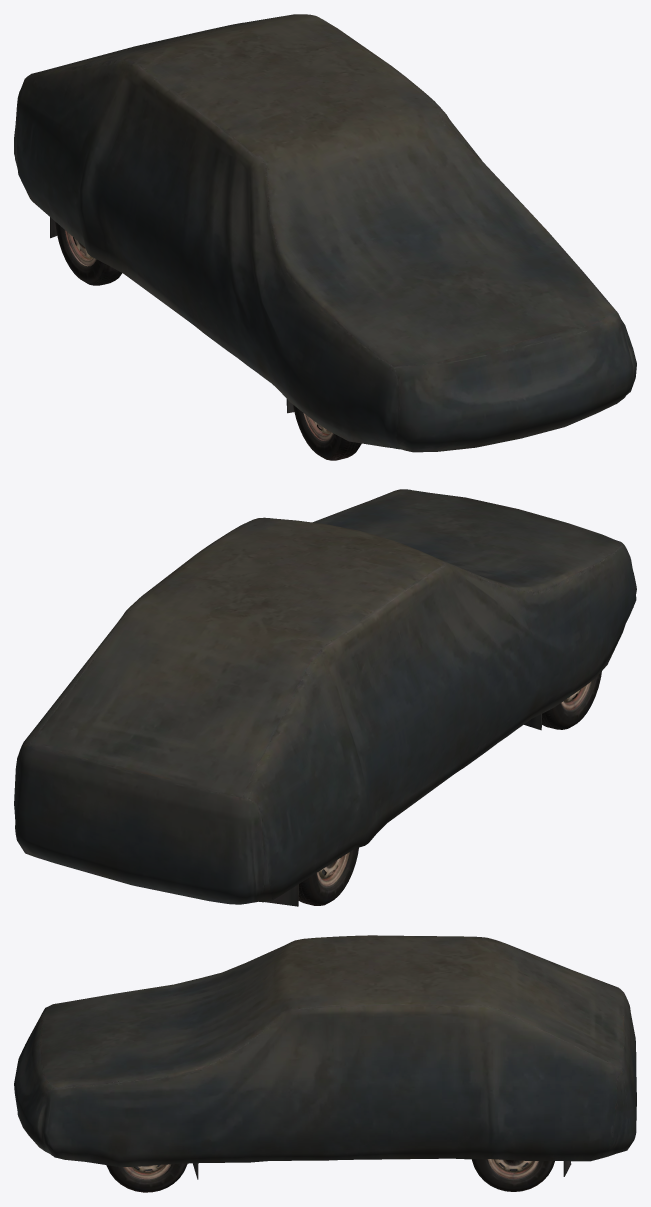
File: covered_car.glb
The picture shows the model from 3 angles, top to bottom: view 1: azimuth 30°, elevation 25°; view 2: azimuth 150°, elevation 25°; view 3: azimuth 270°, elevation 25°; orthographic projection. The views are drawn at different scales.
Visible parts, largest first — view 1: covered_car, covered_car_wheel_03, covered_car_wheel_02; view 2: covered_car, covered_car_wheel_03, covered_car_wheel_02; view 3: covered_car, covered_car_wheel_04, covered_car_wheel_01.
Part boxes in pixels (x1,y1,x2,y2): covered_car: (14,14,636,452); covered_car_wheel_03: (55,222,121,285); covered_car_wheel_02: (293,405,361,460); covered_car: (14,489,636,906); covered_car_wheel_03: (298,847,358,905); covered_car_wheel_02: (542,671,601,729); covered_car: (14,935,636,1179); covered_car_wheel_04: (472,1159,554,1191); covered_car_wheel_01: (106,1163,187,1192).
Bounding box in the file's own units: 1.79 × 1.41 × 4.38.
Materials: 1 (1 with a texture image).
